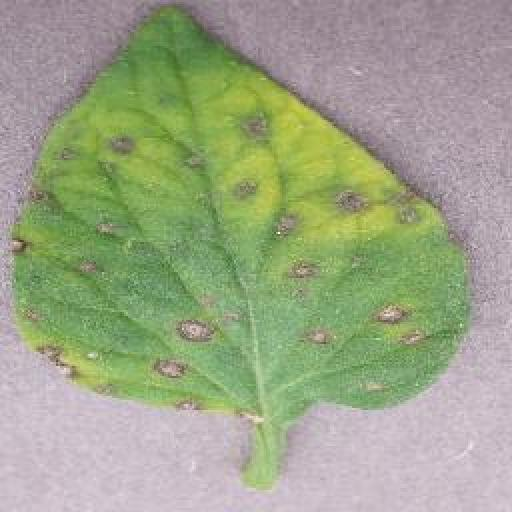disease_tomato: (18, 8, 473, 412)
